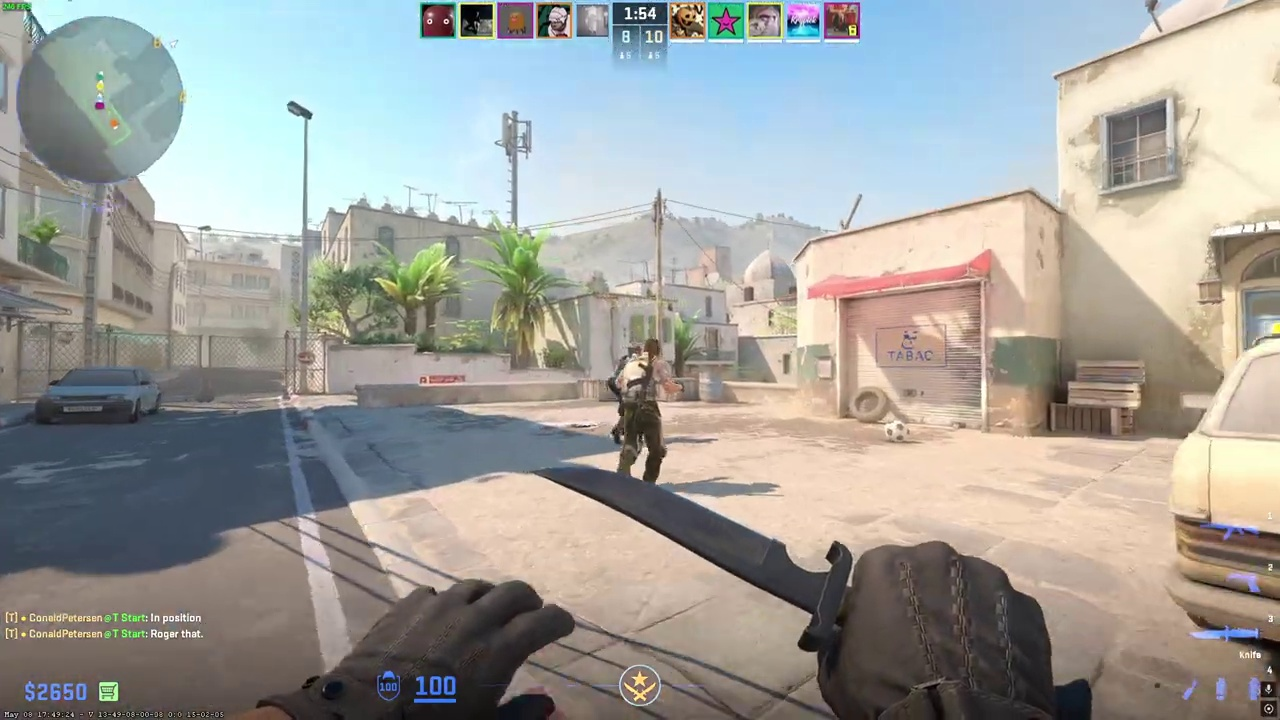Terrorist: (611, 337, 676, 488)
